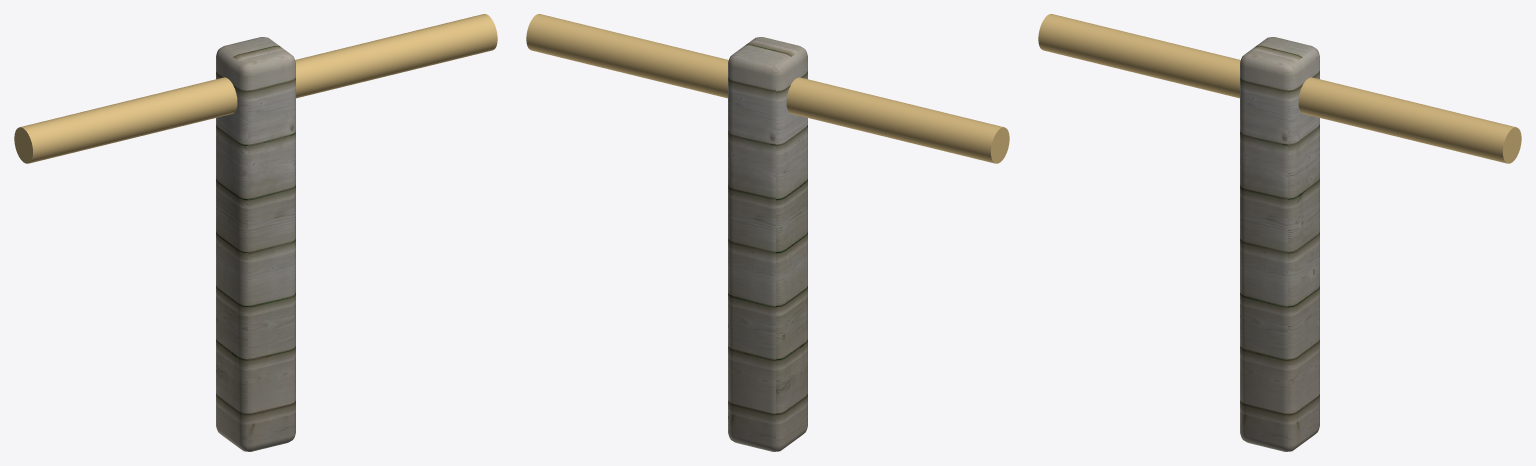
Rendered from deco_rail.glb.
3 views of the same model, side by side, from view 1: azimuth 30°, elevation 25°; view 2: azimuth 150°, elevation 25°; view 3: azimuth 330°, elevation 25° (orthographic).
Visible parts, largest first — view 1: post.002, rope; view 2: post.002, rope; view 3: post.002, rope.
Part boxes in pixels (x1,y1,x2,y2): post.002: [216, 37, 295, 451]; rope: [14, 14, 497, 163]; post.002: [728, 37, 807, 451]; rope: [526, 14, 1009, 163]; post.002: [1240, 37, 1319, 451]; rope: [1038, 14, 1521, 163].
Bounding box in the file's own units: 1 × 0.8 × 0.12.
Materials: 2 (1 with a texture image).
